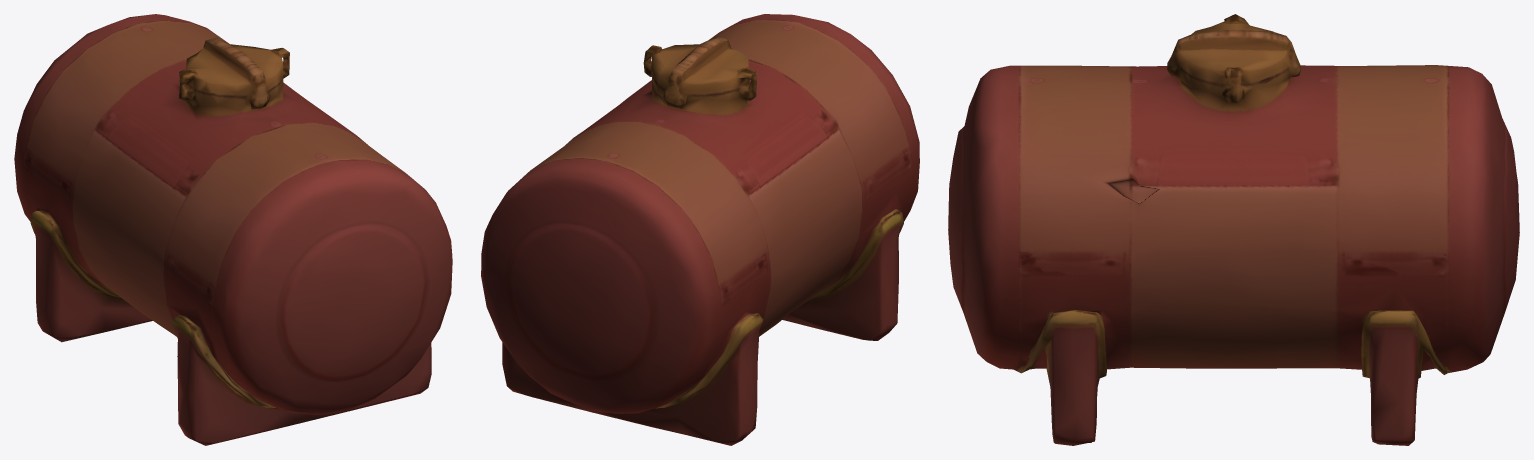
Rendered from tsisterna.glb.
The picture shows the model from 3 angles, left to right: view 1: azimuth 30°, elevation 25°; view 2: azimuth 150°, elevation 25°; view 3: azimuth 270°, elevation 25°; orthographic projection. The views are drawn at different scales.
Visible parts, largest first — view 1: geometry_0; view 2: geometry_0; view 3: geometry_0.
Boxes of the visible parts, x1=… form: geometry_0: x1=14, y1=14, x2=452, y2=445; geometry_0: x1=481, y1=14, x2=919, y2=445; geometry_0: x1=948, y1=14, x2=1519, y2=445.
Bounding box in the file's own units: 0.5637 × 0.6841 × 1.
Materials: 1 (1 with a texture image).
